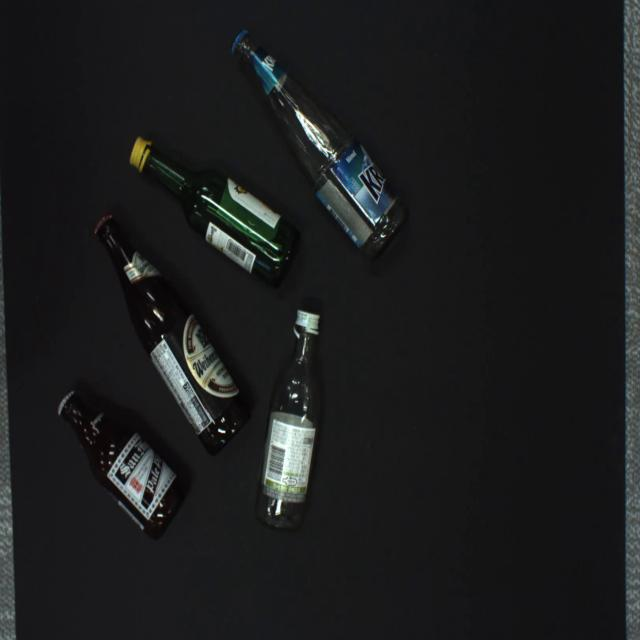beer-bottle: (230, 28, 409, 261), (95, 215, 251, 454), (56, 390, 189, 541)
soju-bottle: (130, 136, 300, 288), (255, 308, 322, 532)
